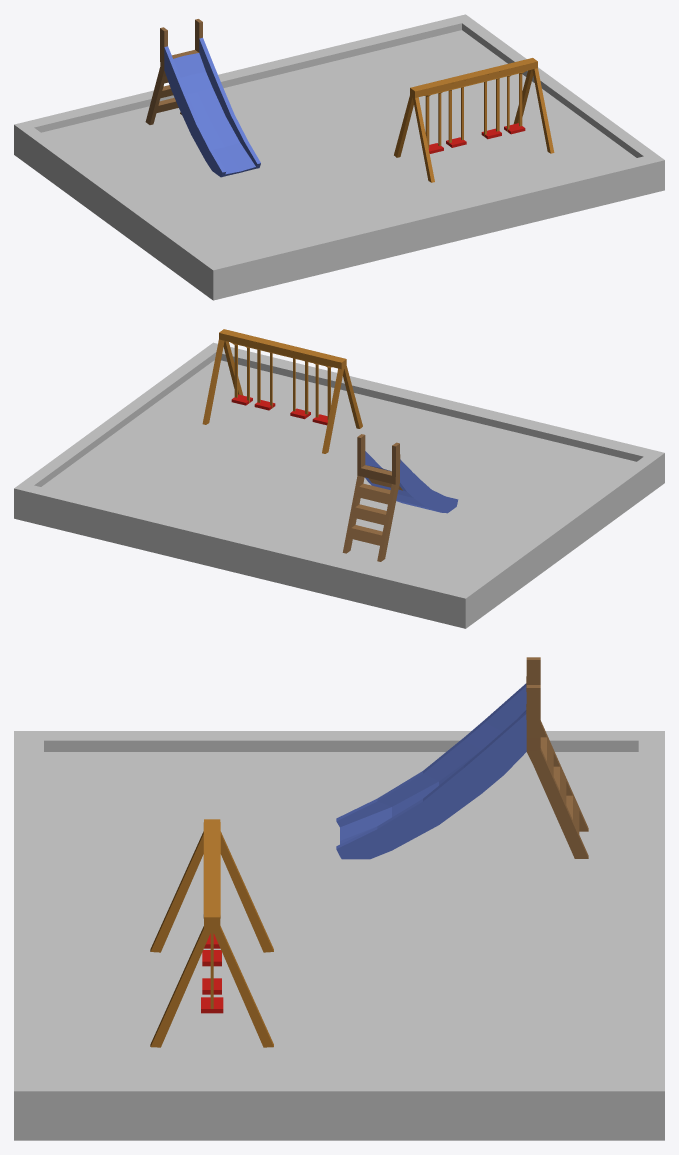
Rendered from legeplads.fbx.
3 renders of one model, top to bottom at view 1: azimuth 30°, elevation 25°; view 2: azimuth 150°, elevation 25°; view 3: azimuth 270°, elevation 25°, orthographic. The views are drawn at different scales.
Parts seen in each view (by area): view 1: Cube.001, Cube, Cube.002; view 2: Cube.001, Cube.002, Cube; view 3: Cube.001, Cube, Cube.002.
Boxes of the visible parts, x1,y1,x2,y2 form: Cube.001: [14, 14, 664, 300]; Cube: [145, 19, 260, 177]; Cube.002: [394, 58, 554, 182]; Cube.001: [14, 342, 664, 628]; Cube.002: [202, 329, 362, 453]; Cube: [342, 434, 458, 561]; Cube.001: [14, 731, 664, 1140]; Cube: [336, 657, 588, 859]; Cube.002: [150, 819, 273, 1047].
Size of the model in its own units: 5112 by 1386 by 3904.
